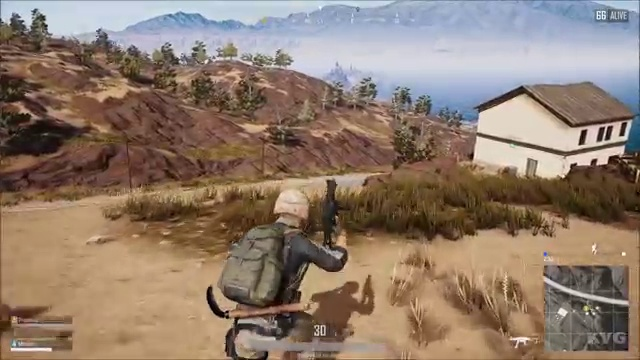Player: (199, 176, 389, 324)
